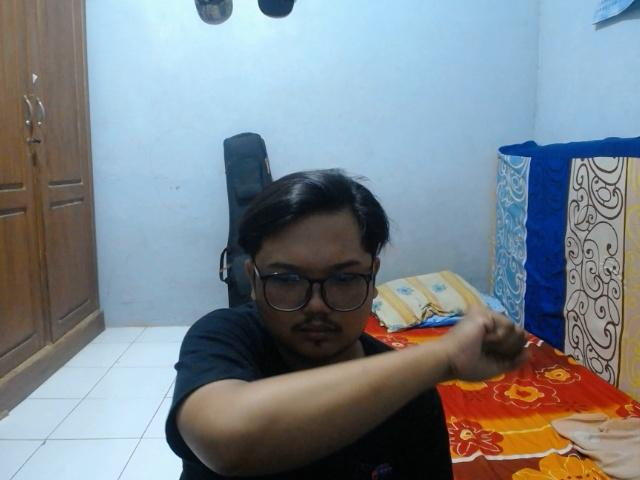Grab: (442, 300, 533, 387)
